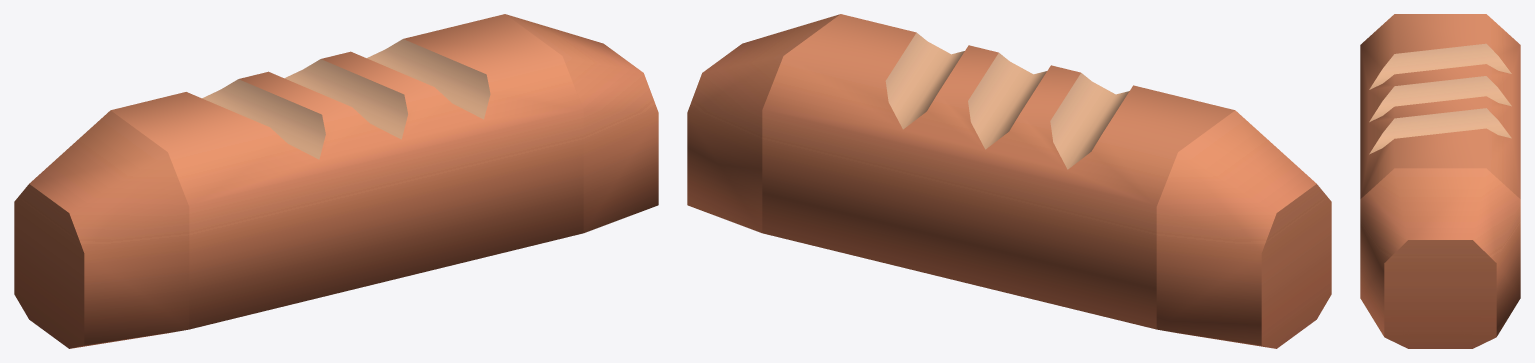
File: baguette.glb
The picture shows the model from 3 angles, left to right: view 1: azimuth 30°, elevation 25°; view 2: azimuth 150°, elevation 25°; view 3: azimuth 270°, elevation 25°; orthographic projection. The views are drawn at different scales.
Visible parts, largest first — view 1: loaf-baguette; view 2: loaf-baguette; view 3: loaf-baguette.
Part boxes in pixels (left/top/right/bottom): loaf-baguette: left=14, top=14, right=658, bottom=348; loaf-baguette: left=687, top=14, right=1331, bottom=348; loaf-baguette: left=1360, top=14, right=1520, bottom=348.
Size of the model in its own units: 0.83 by 0.25 by 0.25.
1 material, 1 textured.
